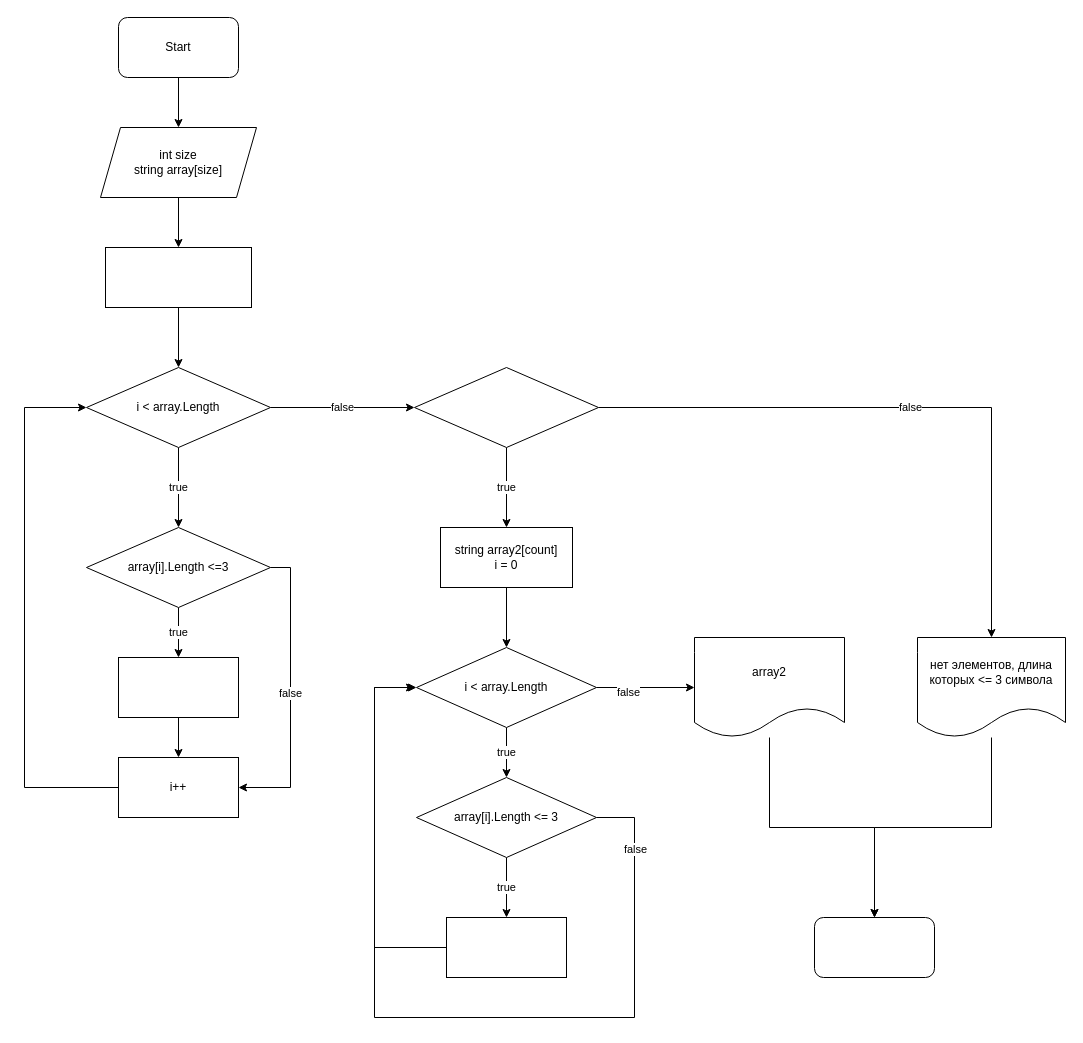
Image size: 1083x1043. Some labels were removed from this diagram. Each missing label, with the centre of its shape:
"array2[j] = array[i] j++" belongs at (x=506, y=947).
"count > 0" belongs at (x=506, y=407).
"count++" belongs at (x=178, y=687).
"Finish" belongs at (x=874, y=947).
"int count = 0 int i = 0 int j = 0" belongs at (x=178, y=277).
